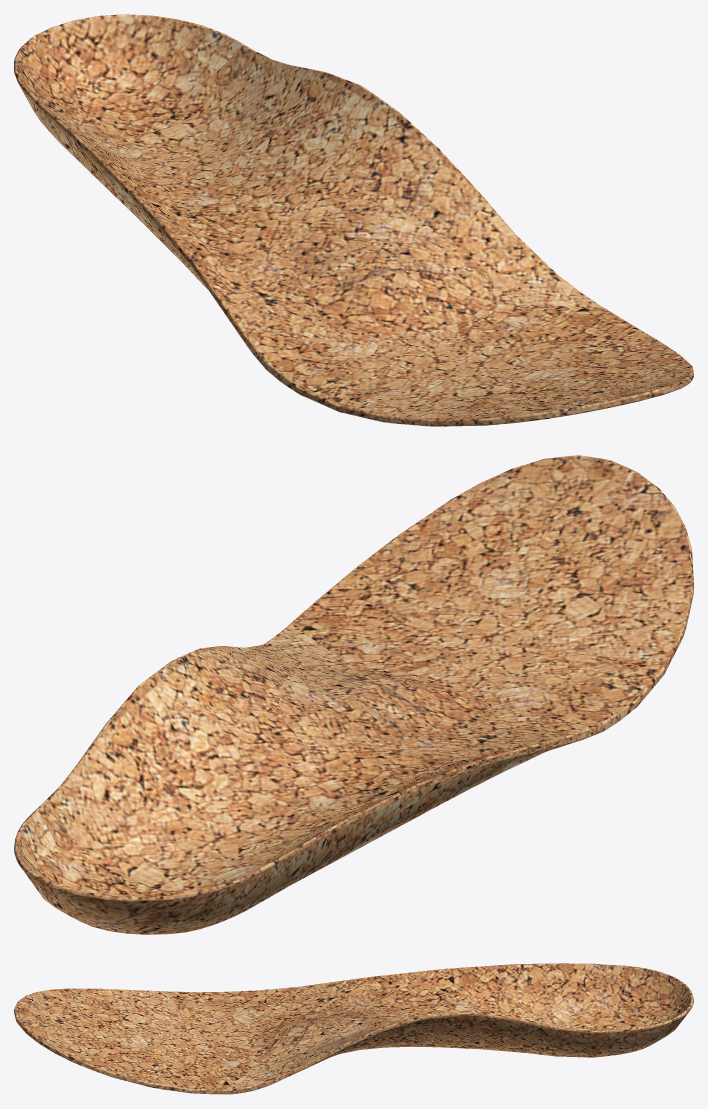
The picture shows the model from 3 angles, top to bottom: view 1: azimuth 30°, elevation 25°; view 2: azimuth 150°, elevation 25°; view 3: azimuth 270°, elevation 25°; orthographic projection. The views are drawn at different scales.
Visible parts, largest first — view 1: ENV; view 2: ENV; view 3: ENV.
Part boxes in pixels (bbox=[...]): ENV: bbox=[14, 14, 693, 426]; ENV: bbox=[14, 455, 693, 934]; ENV: bbox=[14, 963, 693, 1094].
Bounding box in the file's own units: 0.01 × 0.00311 × 0.029.
Materials: 1 (1 with a texture image).
